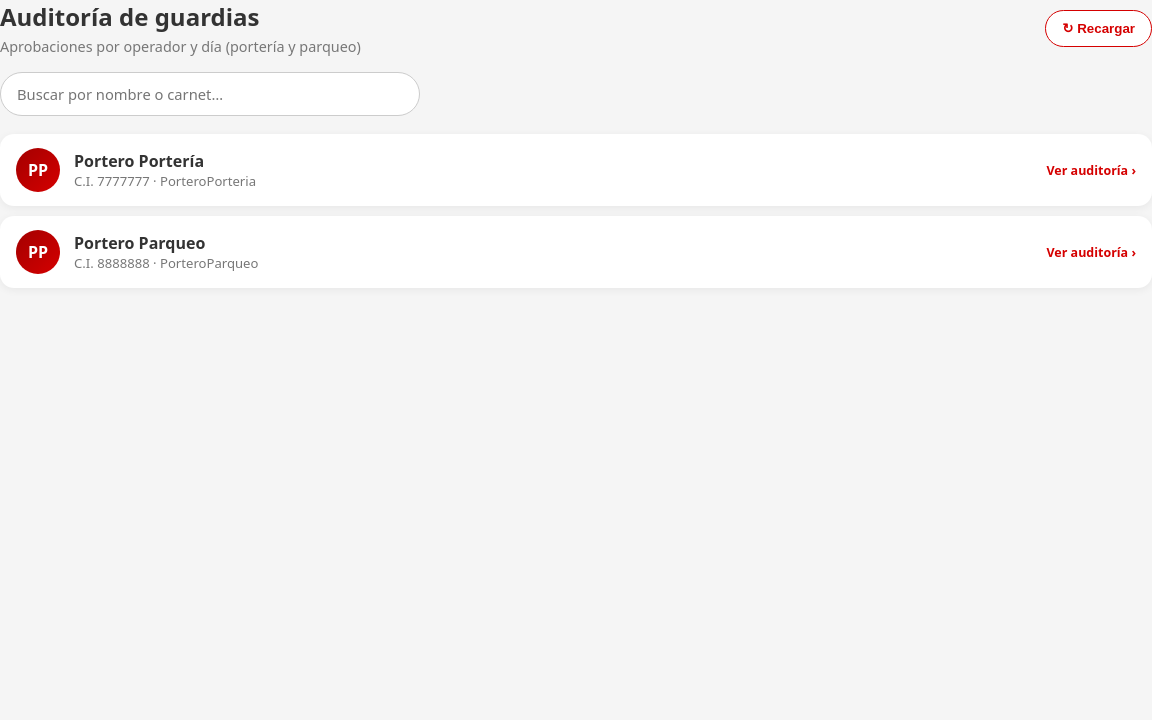
Test: AuditoriaComponent (vista de auditoría de guardias) › filtra por día y vuelve a consultar con la fecha
Click the list item with class "auditoria__item" that starts with "Portero Portería" at (576, 170), box left=0, top=134, right=1151, bottom=206
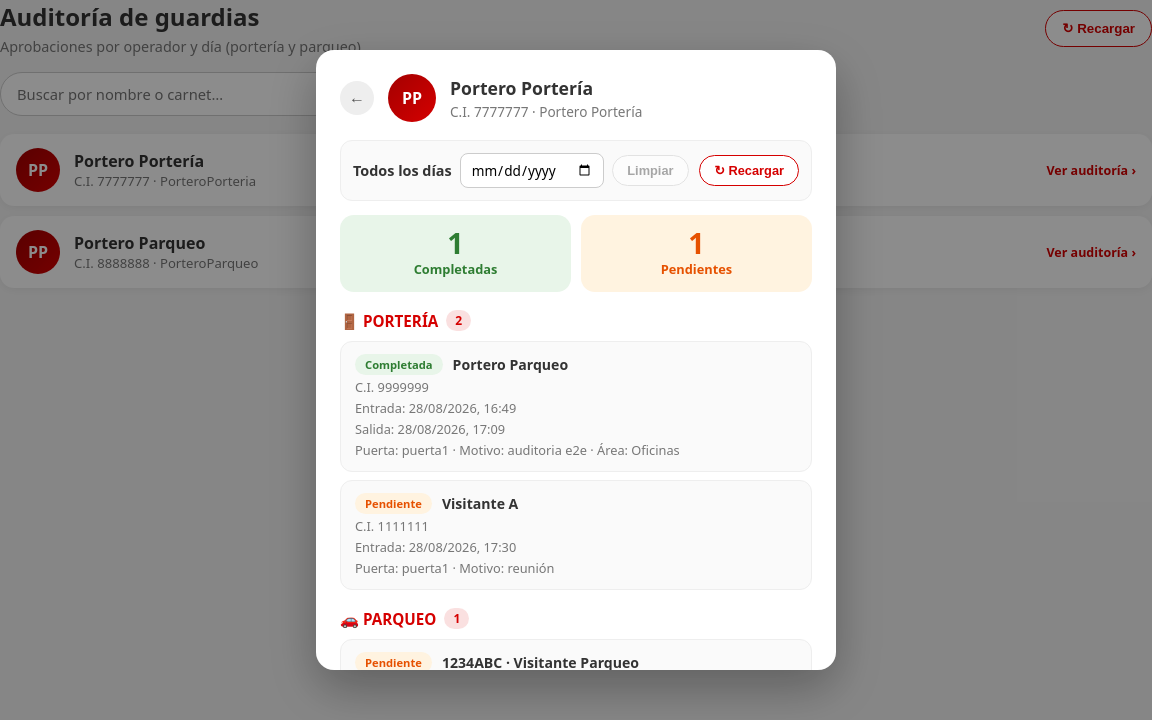
Type "2026-08-28" into the date field named "Filtrar por día" at (532, 171), box left=460, top=153, right=604, bottom=188
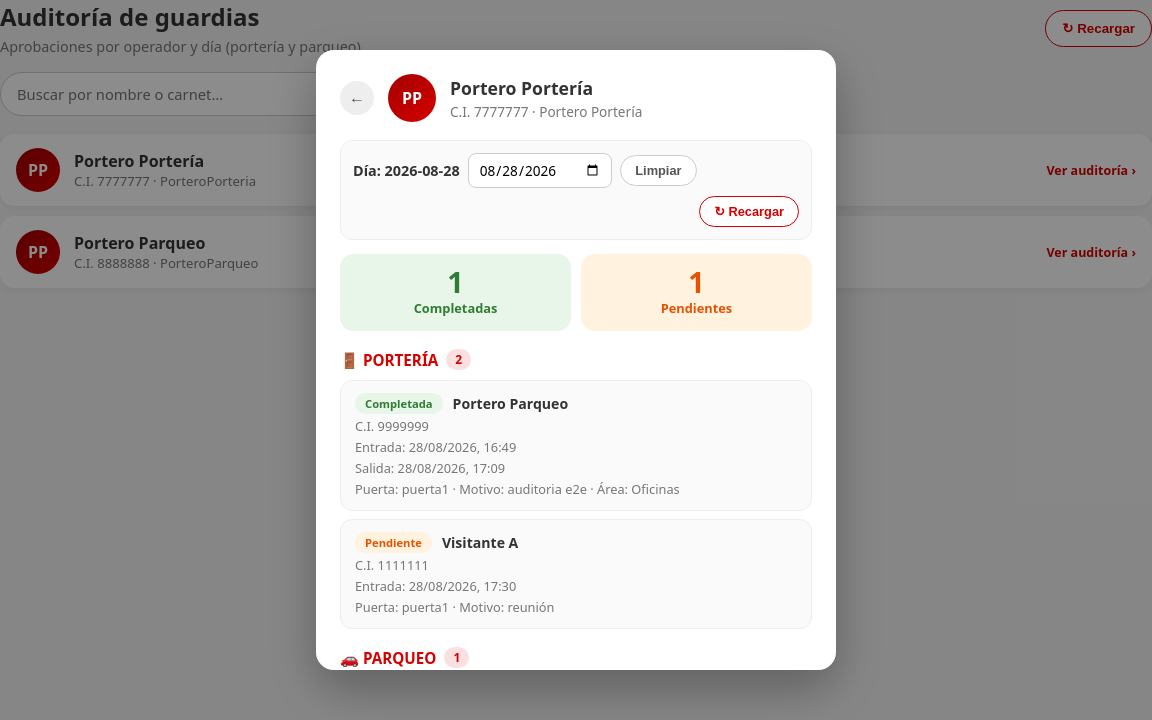
Expected: the text "Día: 2026-08-28" is shown, left=353, top=161, right=460, bottom=180
